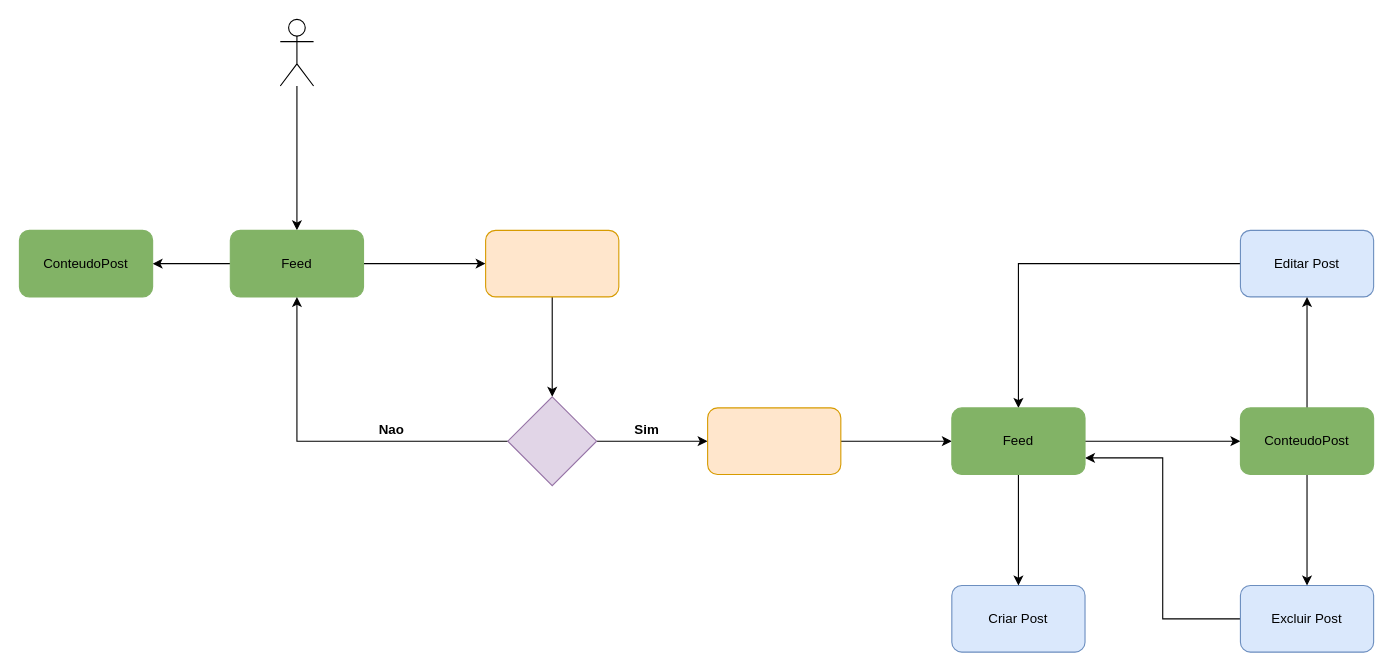
Image size: 1393x672. Some labels were removed from this diagram. Here are the shapes that lost their labels. From the top down, the centre of each, then its label:
the point at 296,52: User
the point at 552,263: Login
the point at 552,441: E Professor?
the point at 774,441: Autenticacao
